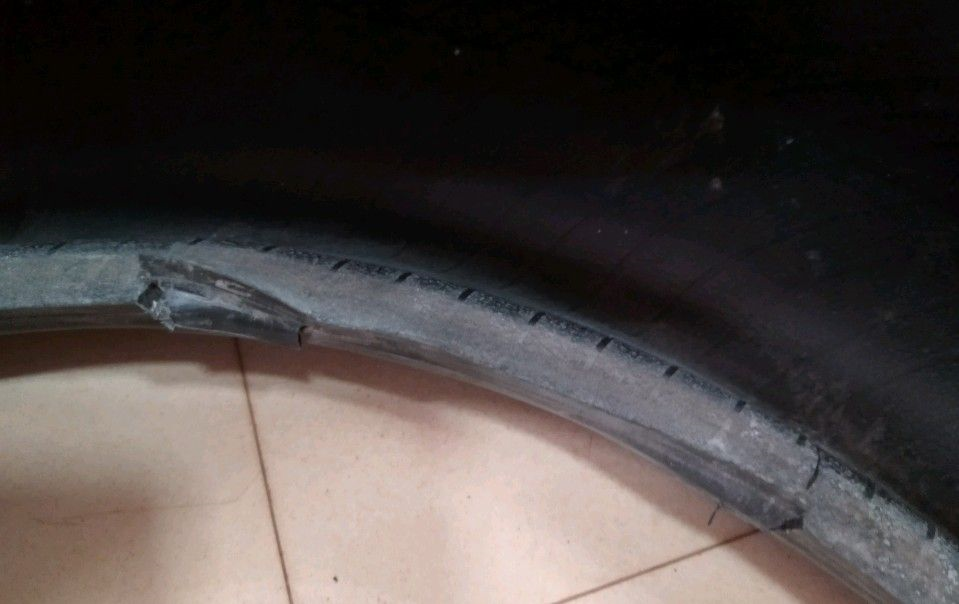bead_damage: (118, 242, 380, 360), (742, 437, 854, 551)
